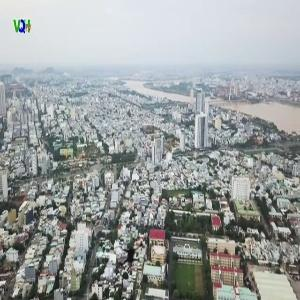drone: (98, 221, 164, 287)
